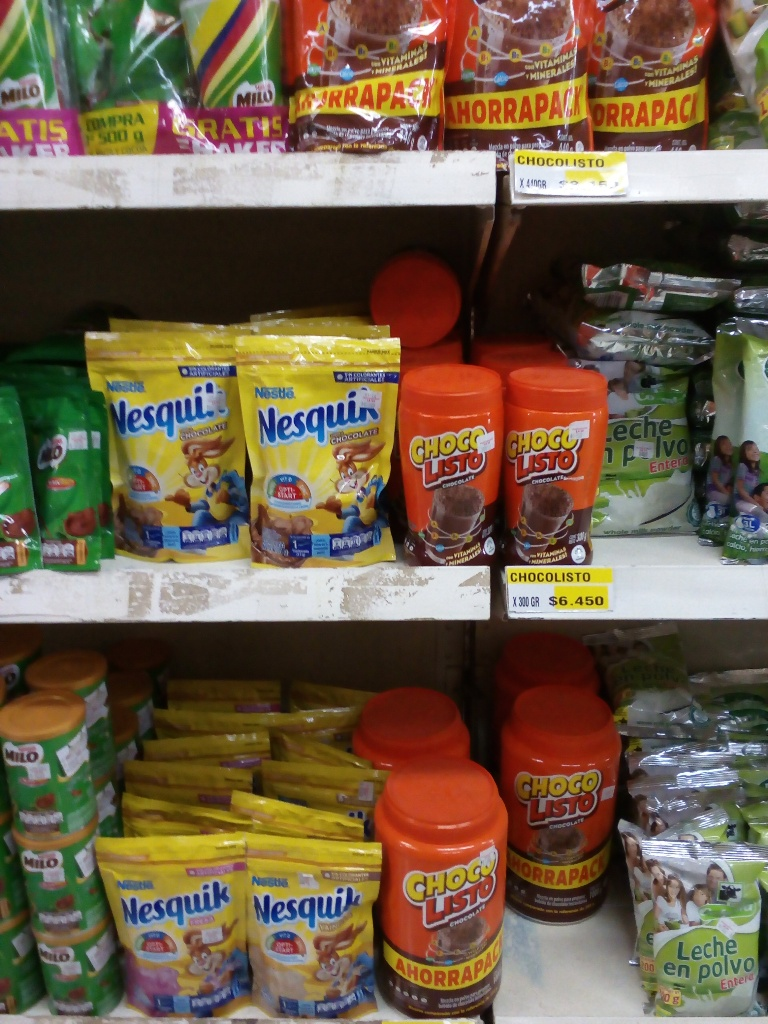COL0170103TRR00100: (368, 755, 513, 1018)
COL0170103TRR30000: (395, 357, 503, 566)
COL0170203LAT20000: (2, 681, 95, 834)
COL0170303DYP20000: (234, 333, 412, 570)
COL0170305DYP20000: (93, 829, 256, 1014)
COL0170306DYP20000: (231, 831, 387, 1022)
